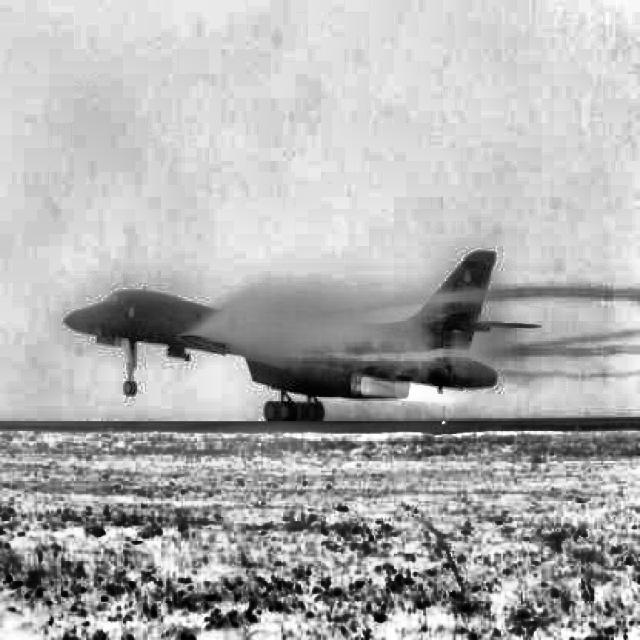B1: (62, 249, 542, 422)
